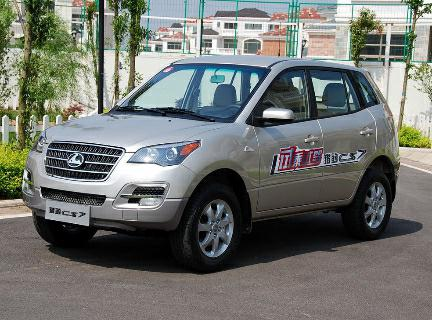猎豹汽车-猎豹CS7: (17, 47, 410, 278)
